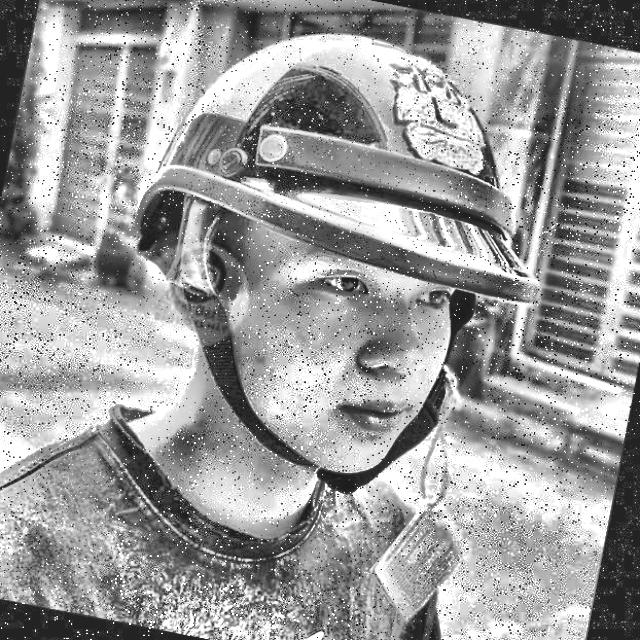Helmet: (79, 0, 587, 531)
